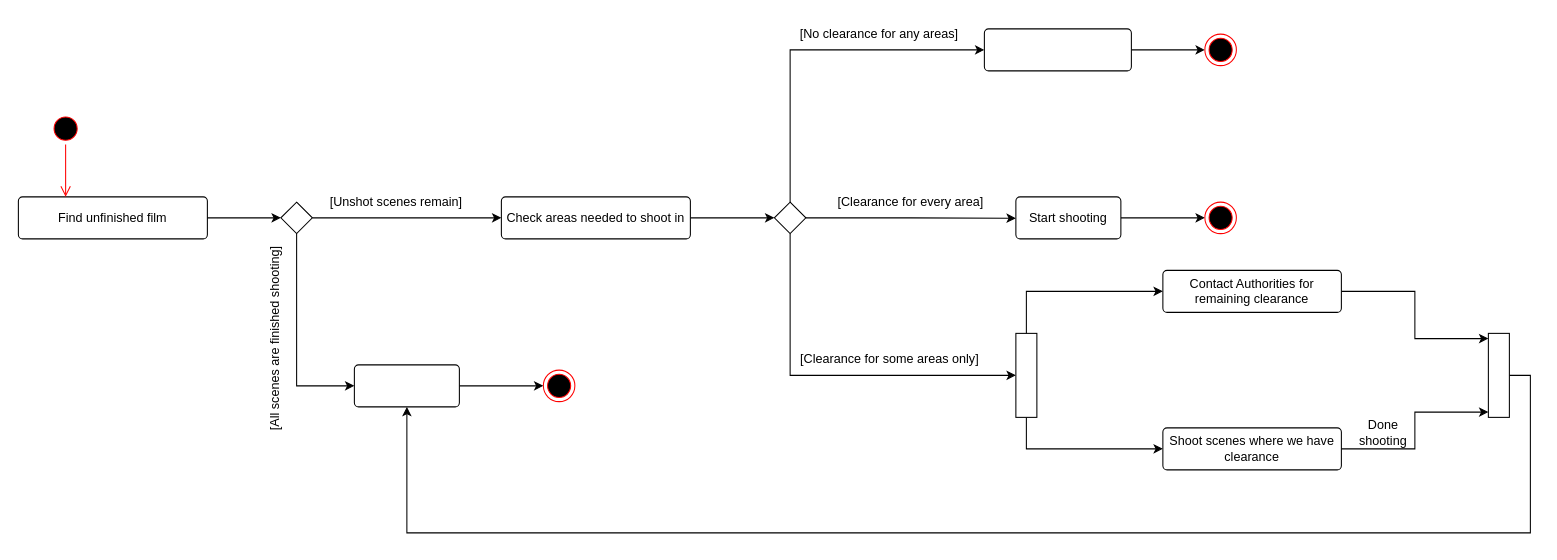
Image size: 1557x560. Some labels were removed from this diagram. Each missing label, with the box of its shape:
Contact Authorities: (983, 28, 1131, 71)
Finish Production: (353, 364, 459, 407)
